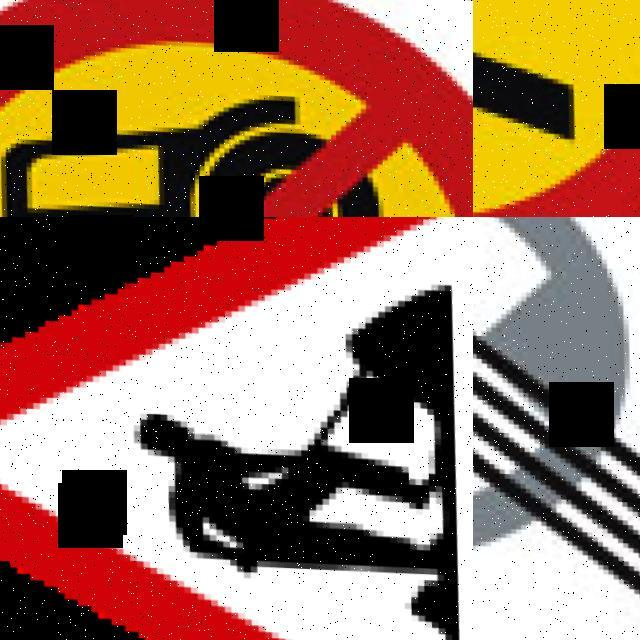111: (473, 217, 640, 640)
48: (0, 0, 473, 217)
55: (473, 0, 640, 217)
Roadworks: (0, 217, 473, 640)
